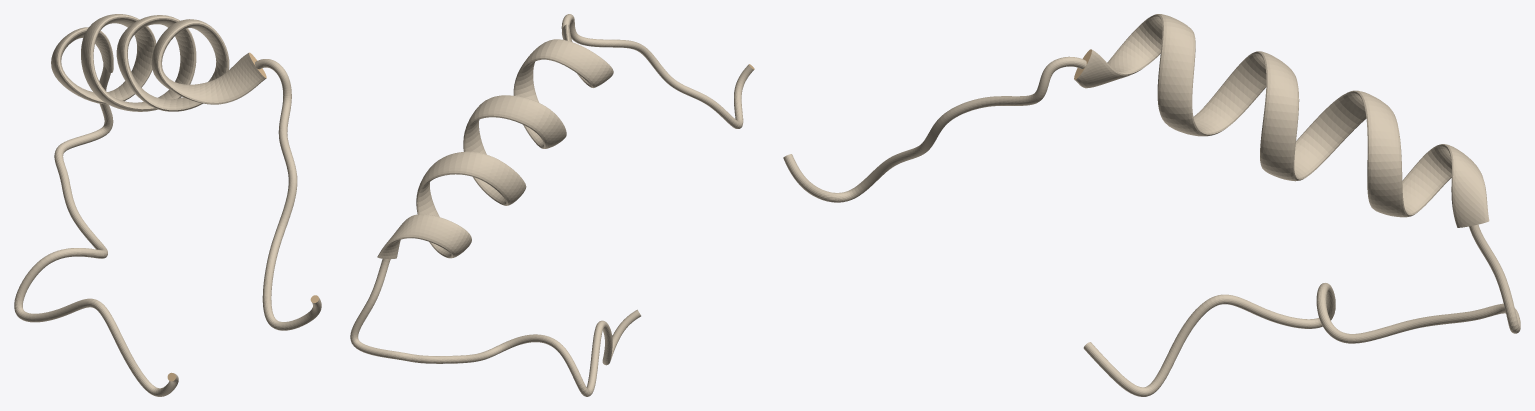
File: SheetrCoilfCoil.dae
The picture shows the model from 3 angles, left to right: view 1: azimuth 30°, elevation 25°; view 2: azimuth 150°, elevation 25°; view 3: azimuth 270°, elevation 25°; orthographic projection. The views are drawn at different scales.
Visible parts, largest first — view 1: Shape_IndexedTriangleStripSet_033; view 2: Shape_IndexedTriangleStripSet_033; view 3: Shape_IndexedTriangleStripSet_033.
Boxes of the visible parts, left/top/right/bottom form: Shape_IndexedTriangleStripSet_033: left=14, top=14, right=321, bottom=396; Shape_IndexedTriangleStripSet_033: left=350, top=14, right=754, bottom=396; Shape_IndexedTriangleStripSet_033: left=783, top=14, right=1520, bottom=396.
Bounding box in the file's own units: 11.96 × 37.72 × 22.52.
